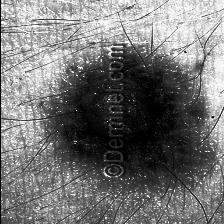Potentially Malignant Skin Tumors: (90, 86, 158, 133)
